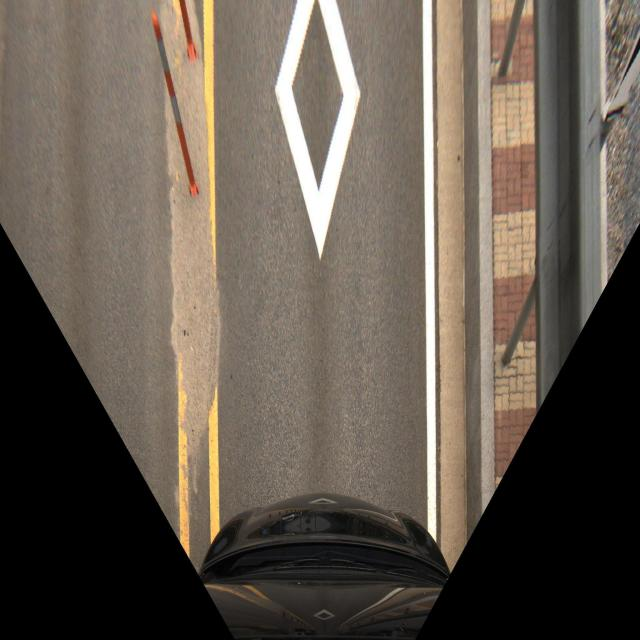diamond: (205, 0, 432, 255)
